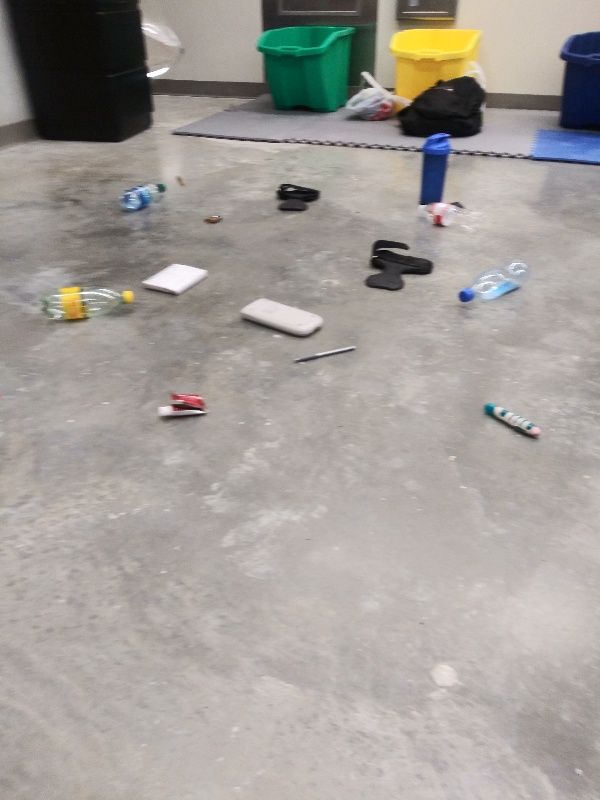bottle: (39, 284, 139, 323), (453, 259, 534, 307), (414, 200, 487, 231), (118, 180, 168, 213)
